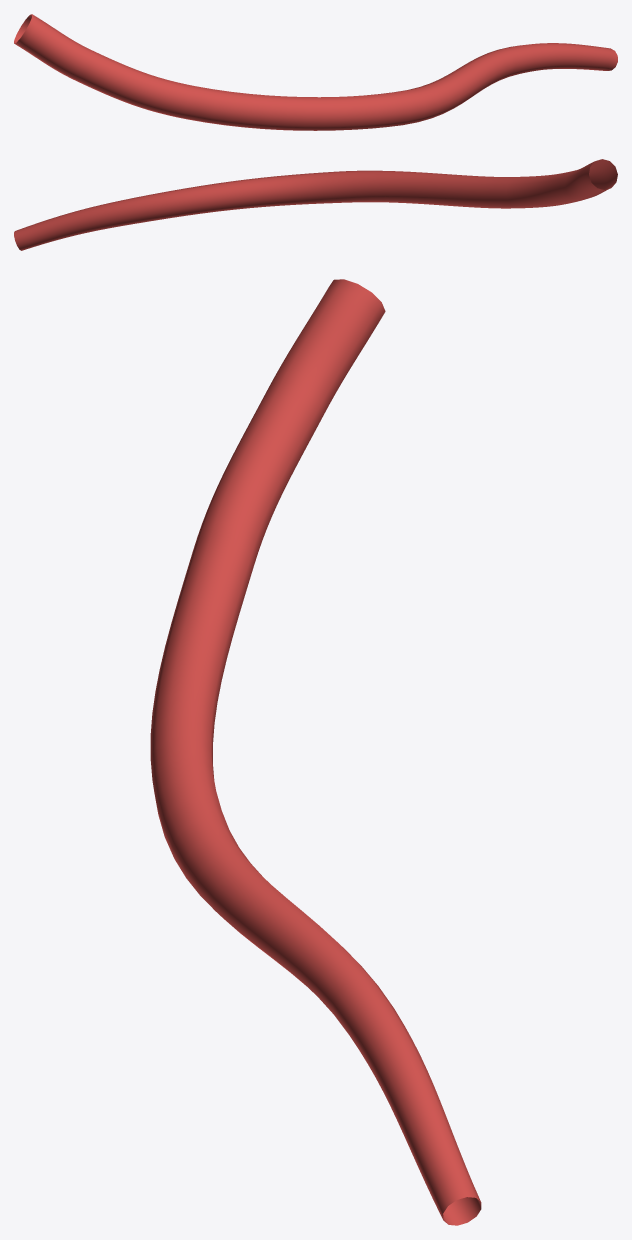
3 renders of one model, top to bottom at view 1: azimuth 30°, elevation 25°; view 2: azimuth 150°, elevation 25°; view 3: azimuth 270°, elevation 25°, orthographic. The views are drawn at different scales.
Visible parts, largest first — view 1: 右侧翼管动脉; view 2: 右侧翼管动脉; view 3: 右侧翼管动脉.
Part boxes in pixels (<box>): 右侧翼管动脉: <box>14,14,617,130</box>; 右侧翼管动脉: <box>14,159,617,250</box>; 右侧翼管动脉: <box>150,279,481,1225</box>.
Size of the model in its own units: 0.0371 by 0.0126 by 0.00928.
